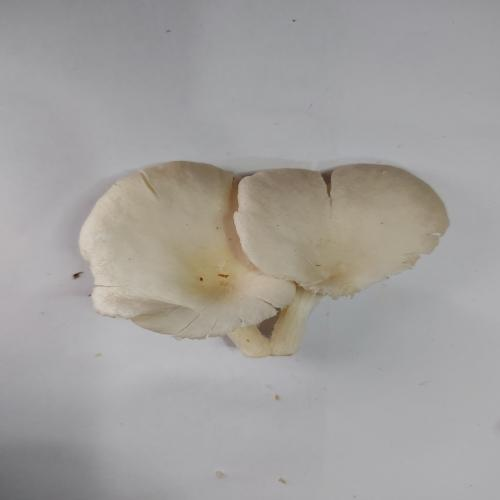Oyster Mushroom: (228, 162, 450, 357), (77, 159, 297, 350)
